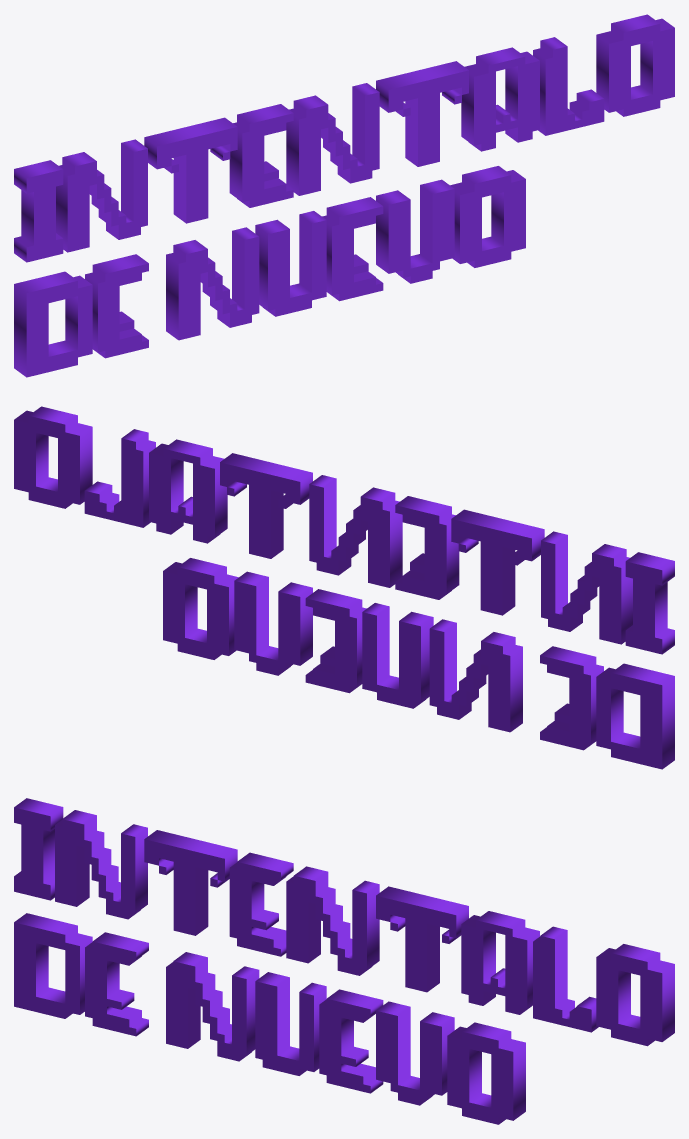
The model's file is LETRASSSSS.glb.
The picture shows the model from 3 angles, top to bottom: view 1: azimuth 30°, elevation 25°; view 2: azimuth 150°, elevation 25°; view 3: azimuth 330°, elevation 25°; orthographic projection.
Visible parts, largest first — view 1: Text.001; view 2: Text.001; view 3: Text.001.
Boxes of the visible parts, x1,y1,x2,y2 form: Text.001: (14,14,674,377); Text.001: (14,406,674,769); Text.001: (14,798,674,1124).
Size of the model in its own units: 5.9 by 1.73 by 0.2.
